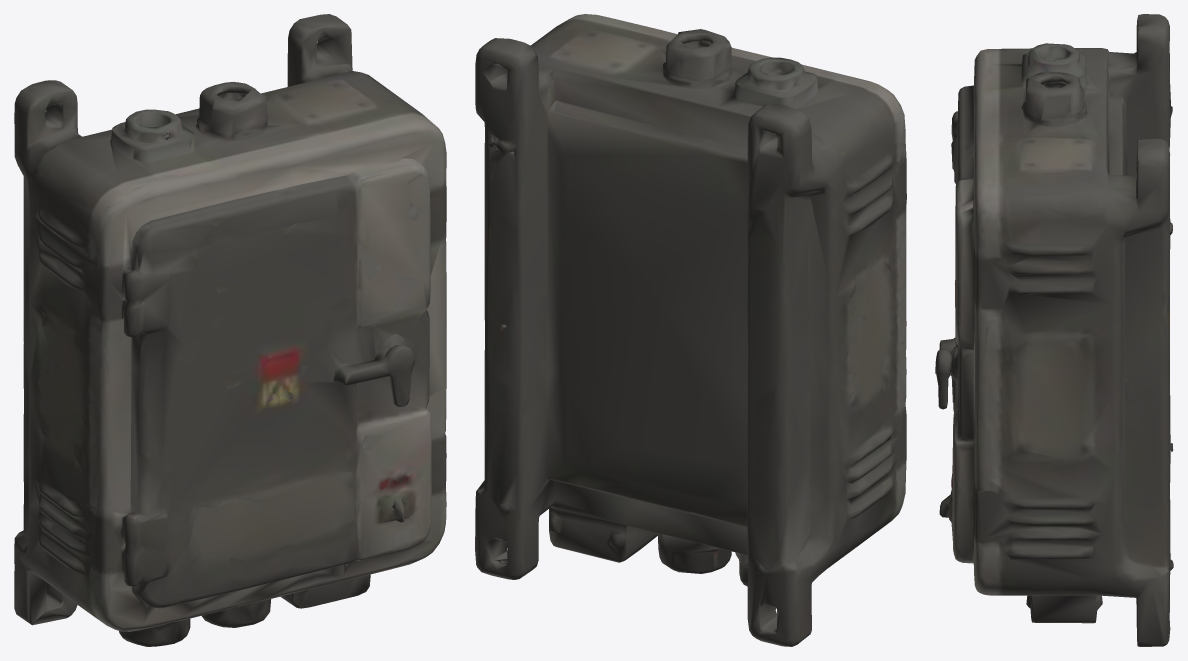
File: electrical_panel.glb
3 renders of one model, left to right at view 1: azimuth 30°, elevation 25°; view 2: azimuth 150°, elevation 25°; view 3: azimuth 270°, elevation 25°, orthographic. The views are drawn at different scales.
Parts seen in each view (by area): view 1: geometry_0; view 2: geometry_0; view 3: geometry_0.
Part boxes in pixels (x1,y1,x2,y2): geometry_0: (14, 14, 446, 646); geometry_0: (475, 14, 906, 646); geometry_0: (935, 14, 1173, 646).
Size of the model in its own units: 0.7189 by 1 by 0.4389.
Materials: 1 (1 with a texture image).
